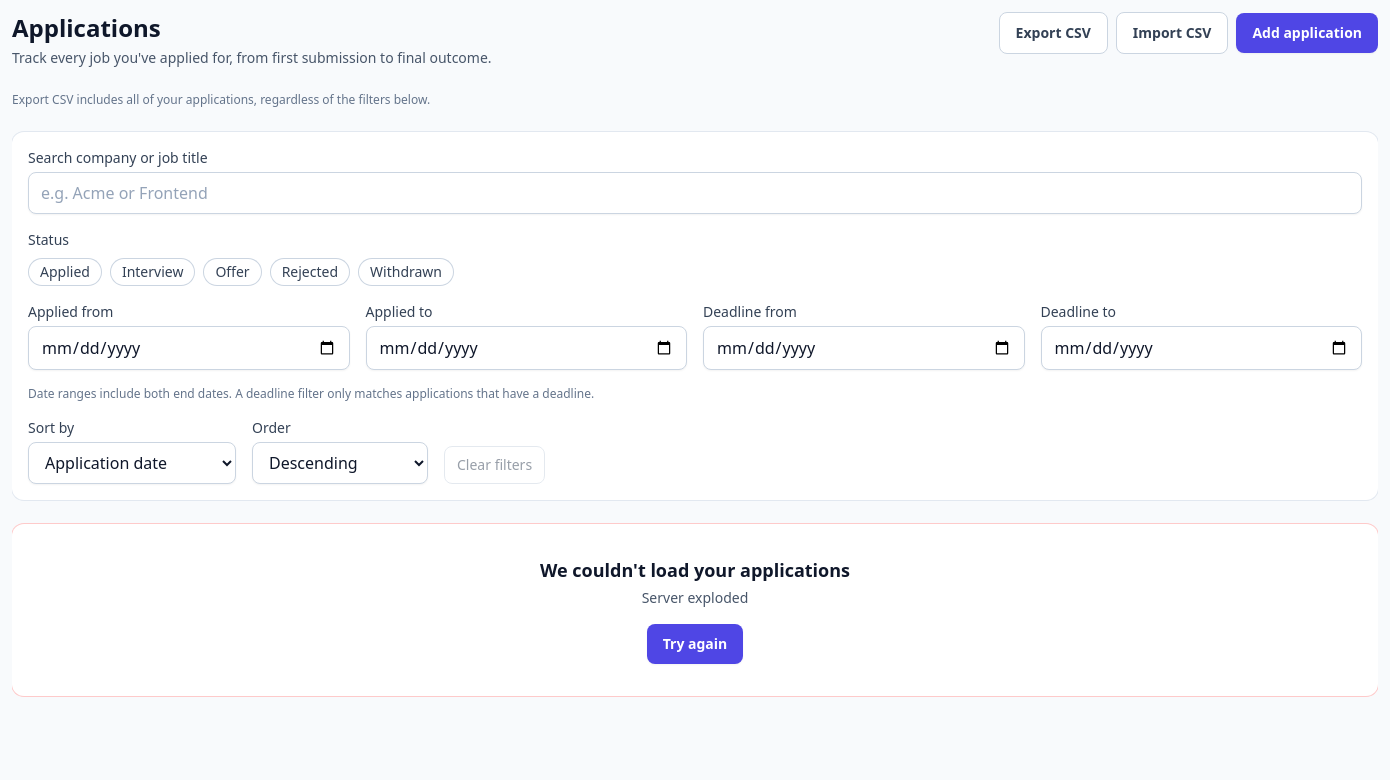
Scenario: loading, empty and error states › shows a failed request with a retry that recovers
expect the message shows "Server exploded": met, box [642,588,748,607]
Click the button "Try again".
click(695, 644)  # box [647,624,743,664]
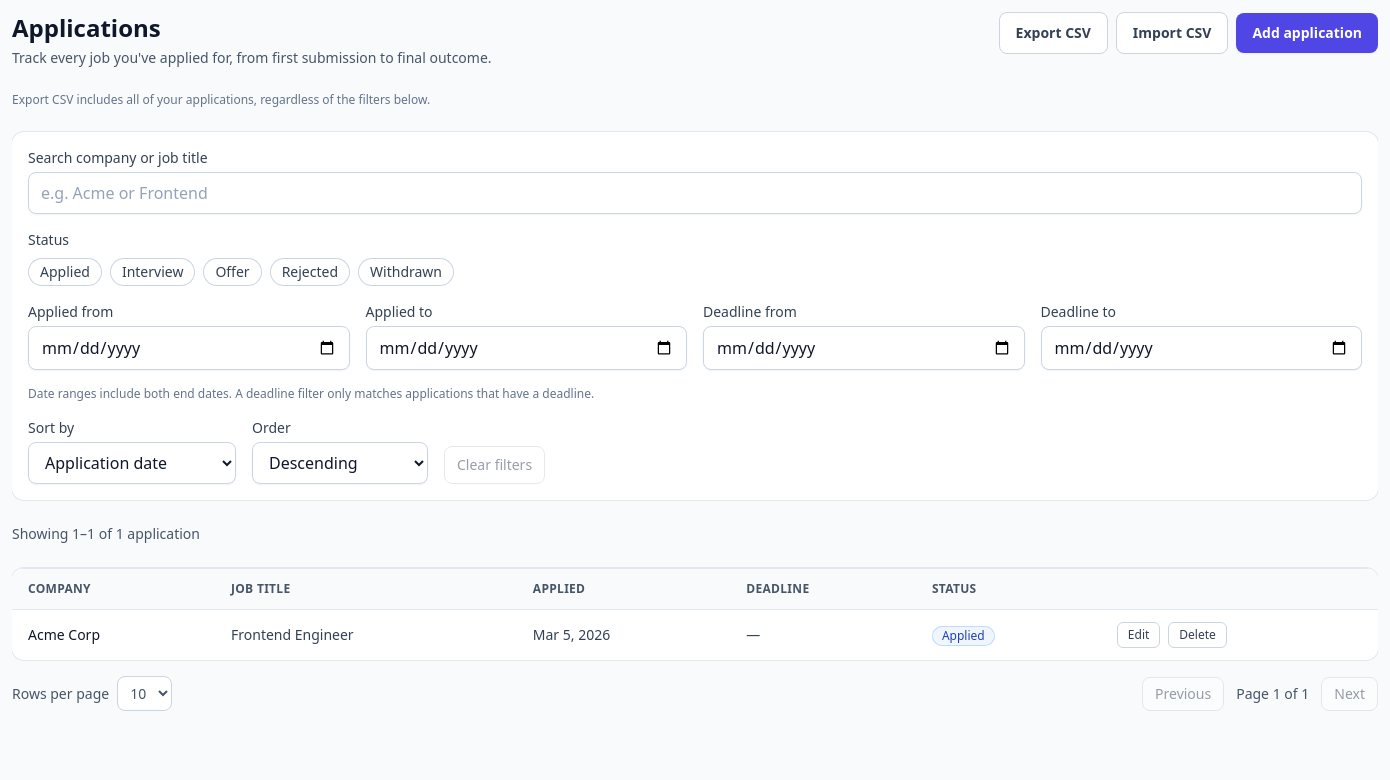
expect the table is shown: met, box [12,568,1378,660]
